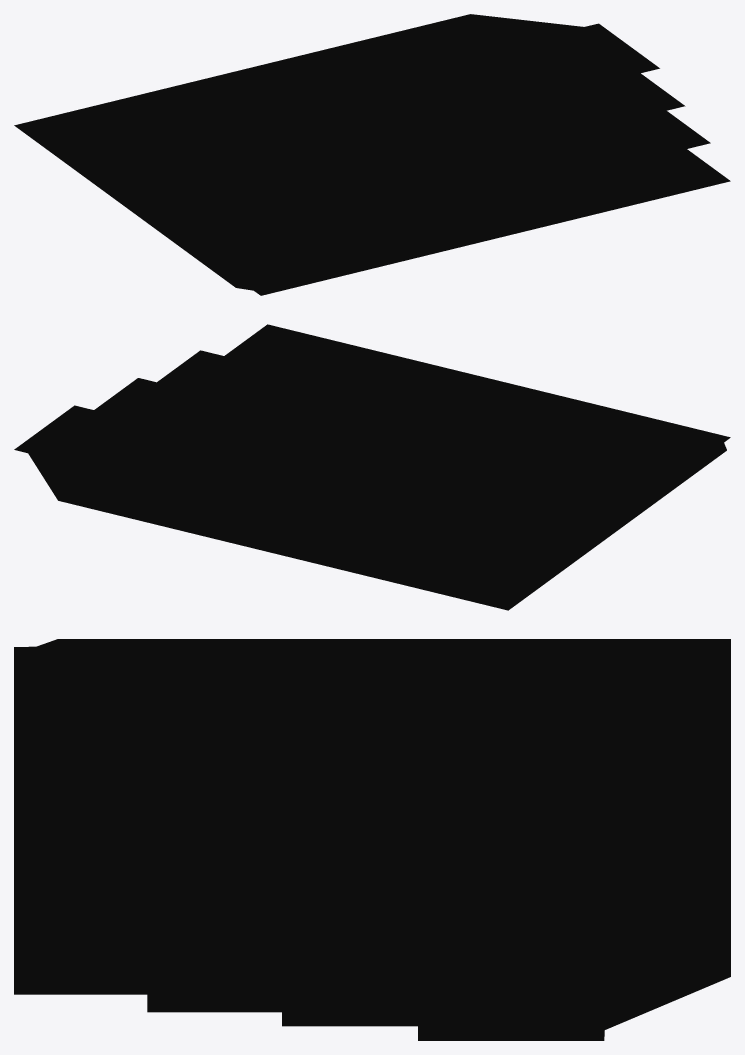
The picture shows the model from 3 angles, top to bottom: view 1: azimuth 30°, elevation 25°; view 2: azimuth 150°, elevation 25°; view 3: azimuth 270°, elevation 25°; orthographic projection. The views are drawn at different scales.
Visible parts, largest first — view 1: Joint_0_Object_0; view 2: Joint_0_Object_0; view 3: Joint_0_Object_0.
Boxes of the visible parts, left/top/right/bottom form: Joint_0_Object_0: left=14, top=14, right=730, bottom=295; Joint_0_Object_0: left=14, top=324, right=730, bottom=610; Joint_0_Object_0: left=14, top=639, right=730, bottom=1040.
Bounding box in the file's own units: 4520 × 1e-05 × 3408.
Materials: 1 (1 with a texture image).
